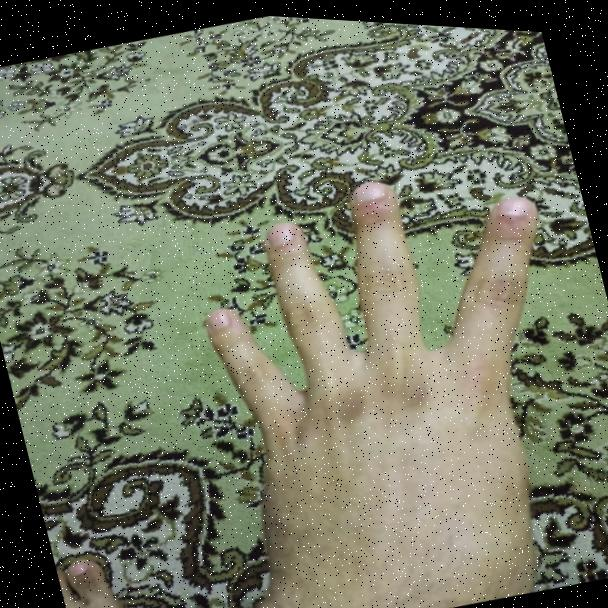four: (168, 117, 608, 608)
